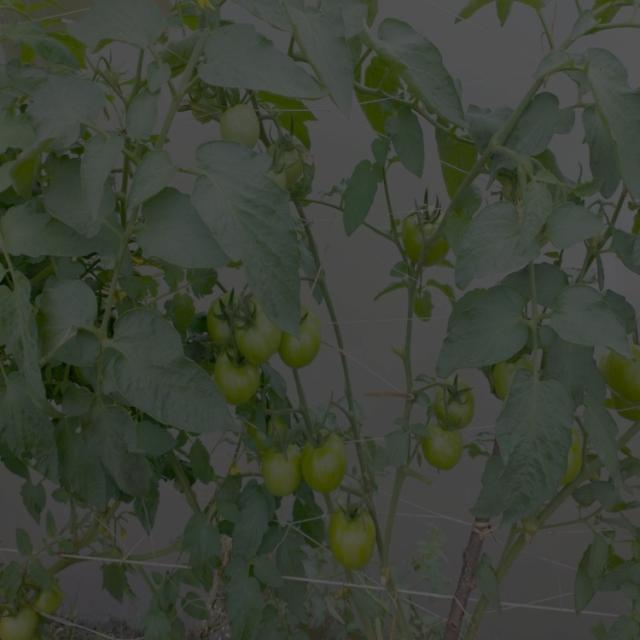tomato: (325, 505, 387, 572), (298, 432, 352, 494), (238, 295, 282, 362), (421, 422, 473, 477), (213, 345, 264, 401), (257, 446, 307, 499), (283, 316, 330, 371), (399, 203, 443, 260), (433, 377, 479, 431), (221, 101, 267, 153), (608, 346, 640, 412), (209, 292, 243, 346), (4, 595, 38, 640), (491, 365, 527, 394)
